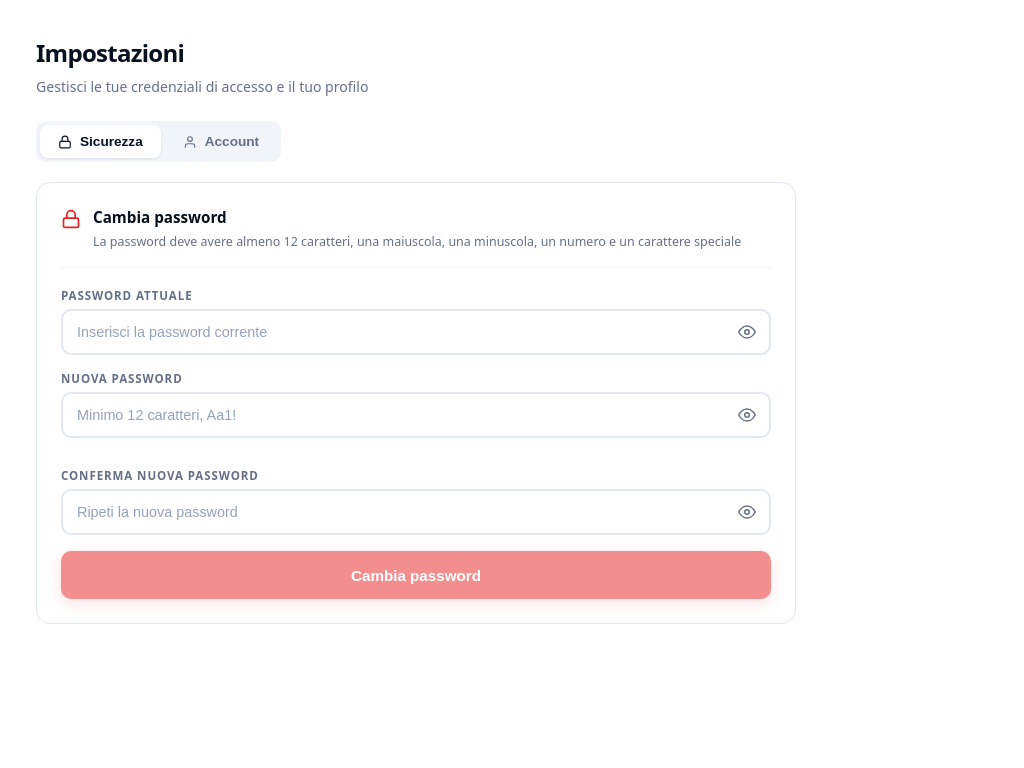
SettingsPage, "Il mio account" tier section (Phase 5) › admin user: tier="Sbloccato", NO redeem form, shows admin notice
This screenshot has width=1024, height=768.
Click the tab "Account". click: (221, 142)
box: [165, 125, 277, 158]
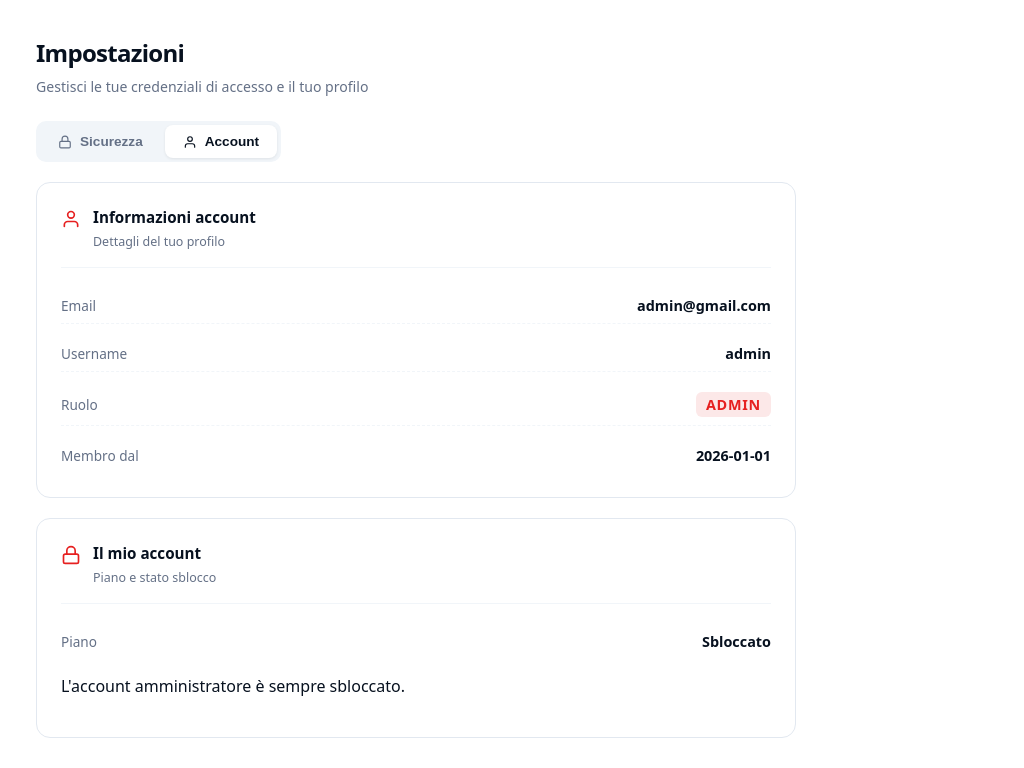
Expected: the text with test id "settings-tier-value" reads "Sbloccato", [702, 632, 771, 651]
